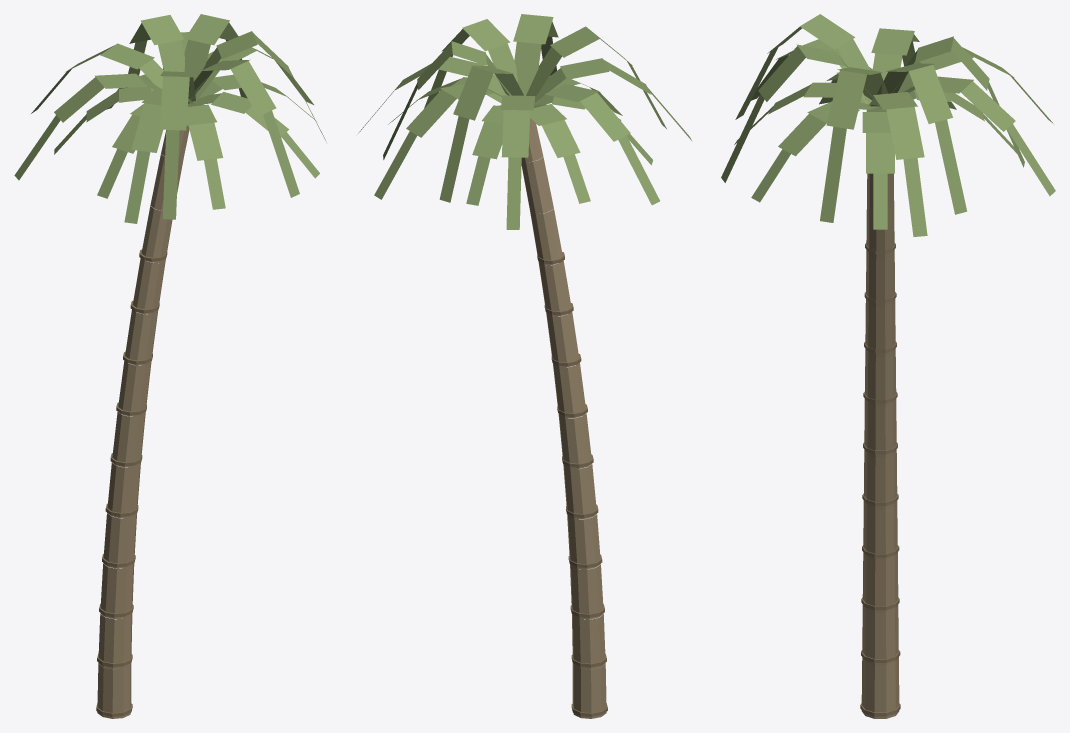
The model's file is tree_palm_b.glb.
The picture shows the model from 3 angles, left to right: view 1: azimuth 30°, elevation 25°; view 2: azimuth 150°, elevation 25°; view 3: azimuth 270°, elevation 25°; orthographic projection. The views are drawn at different scales.
Visible parts, largest first — view 1: LOD0; view 2: LOD0; view 3: LOD0.
Part boxes in pixels (left/top/right/bottom): LOD0: left=14, top=14, right=326, bottom=718; LOD0: left=358, top=14, right=692, bottom=718; LOD0: left=721, top=14, right=1055, bottom=718.
Bounding box in the file's own units: 4.76 × 9.91 × 4.26.
